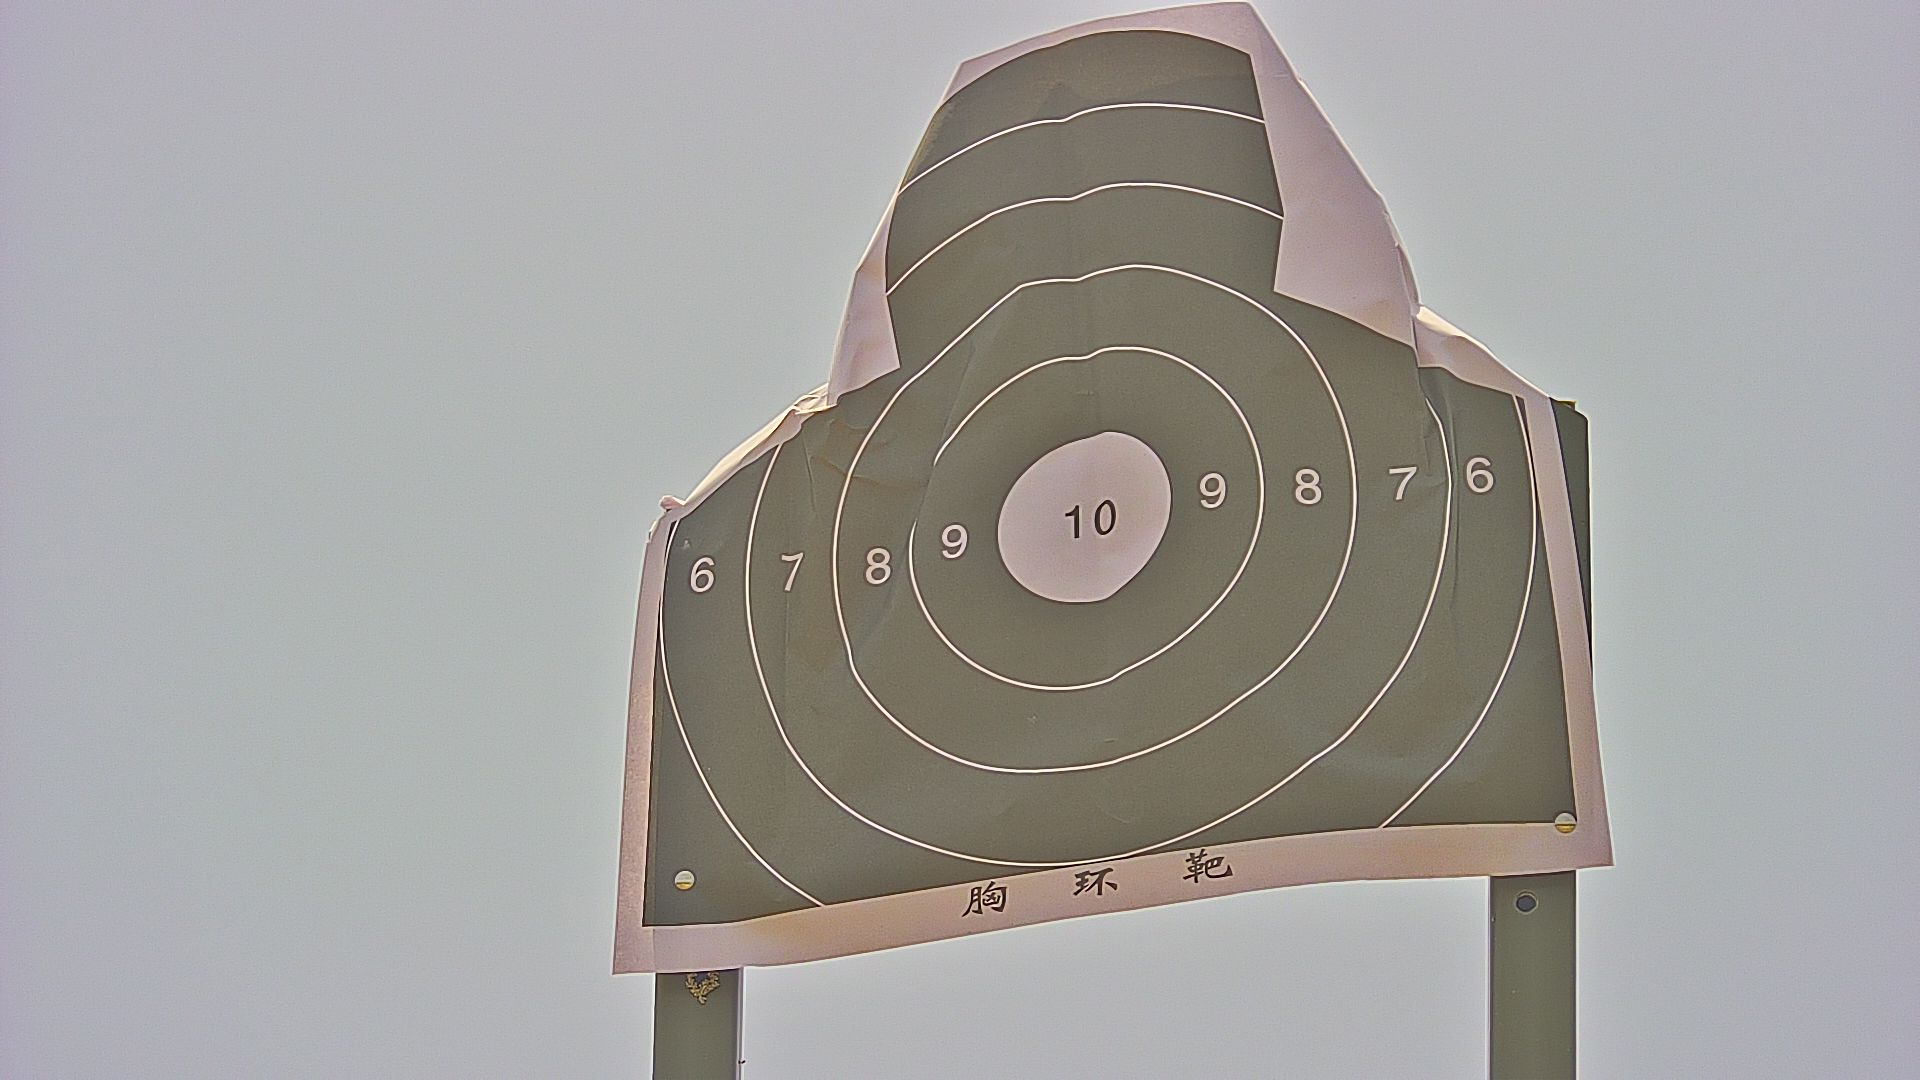kernel: (1084, 520, 1092, 527)
target: (637, 30, 1577, 928)
ten: (996, 431, 1168, 607)
